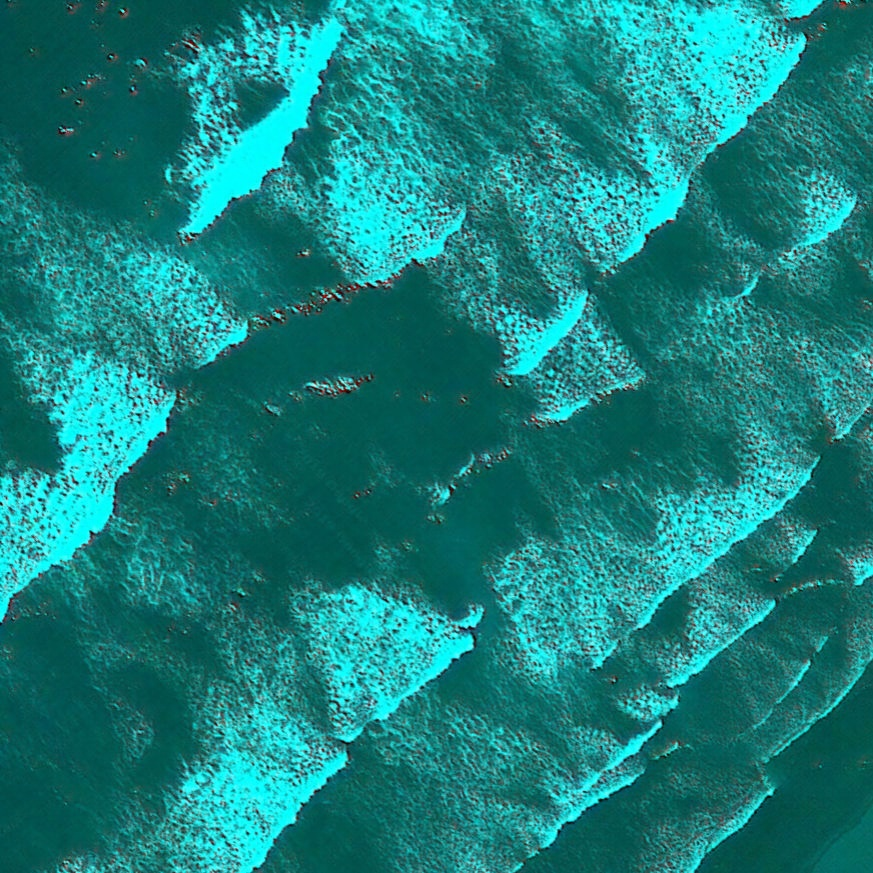rip_current: (158, 177, 669, 724)
